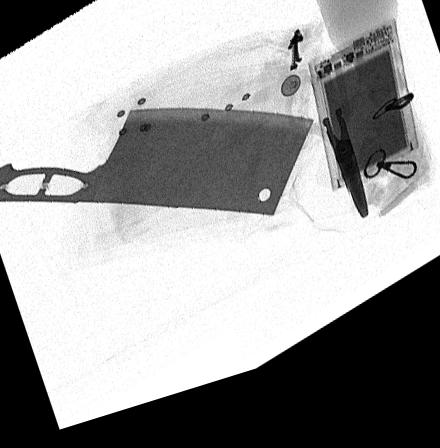Knife: (0, 117, 313, 231)
Powerbank: (305, 41, 418, 210)
Scissors: (281, 76, 368, 244)
